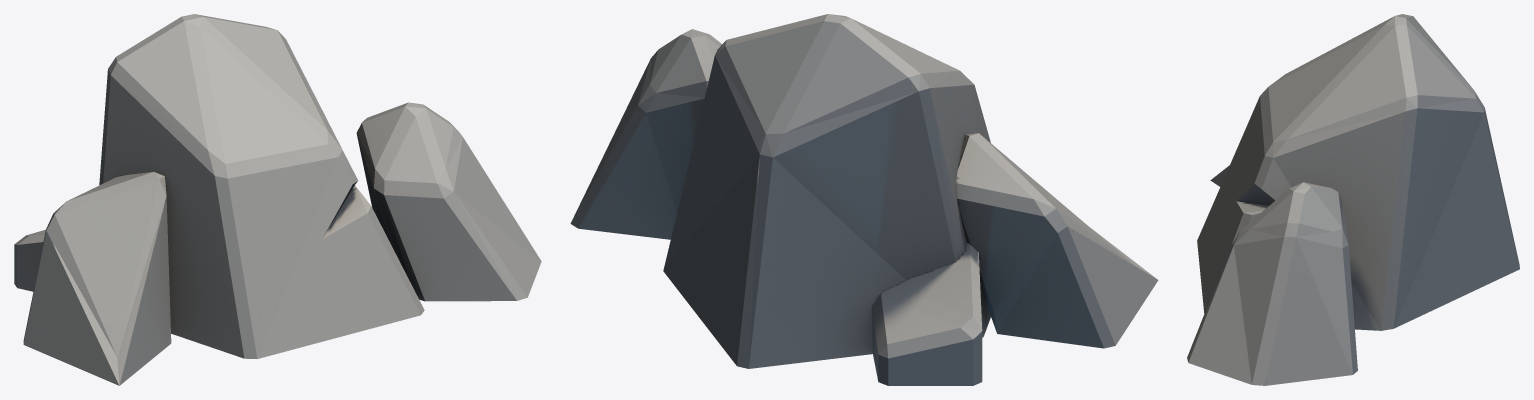
Rendered from stone.gltf.
3 views of the same model, side by side, from view 1: azimuth 30°, elevation 25°; view 2: azimuth 150°, elevation 25°; view 3: azimuth 270°, elevation 25° (orthographic). The views are drawn at different scales.
Parts seen in each view (by area): view 1: node-0; view 2: node-0; view 3: node-0.
Boxes of the visible parts, left/top/right/bottom form: node-0: left=14, top=14, right=541, bottom=385; node-0: left=570, top=14, right=1158, bottom=385; node-0: left=1187, top=14, right=1519, bottom=385.
Bounding box in the file's own units: 2.01 × 1.02 × 1.29.
1 material, 1 textured.
